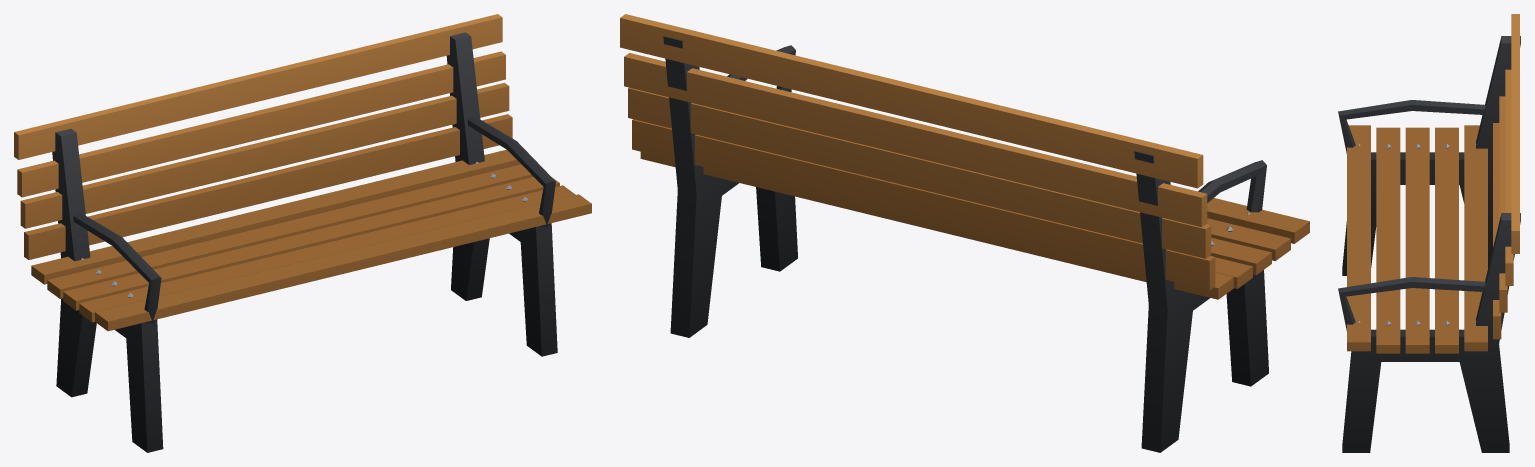
File: Bench.fbx
3 renders of one model, left to right at view 1: azimuth 30°, elevation 25°; view 2: azimuth 150°, elevation 25°; view 3: azimuth 270°, elevation 25°, orthographic. The views are drawn at different scales.
Visible parts, largest first — view 1: Bench_LOD0; view 2: Bench_LOD0; view 3: Bench_LOD0.
Boxes of the visible parts, x1=… form: Bench_LOD0: x1=14, y1=14, x2=591, y2=452; Bench_LOD0: x1=620, y1=14, x2=1309, y2=452; Bench_LOD0: x1=1338, y1=14, x2=1520, y2=452.
Size of what is drawn, in the model's own units: 1.84 by 0.942 by 0.6552.
1 material, 1 textured.
